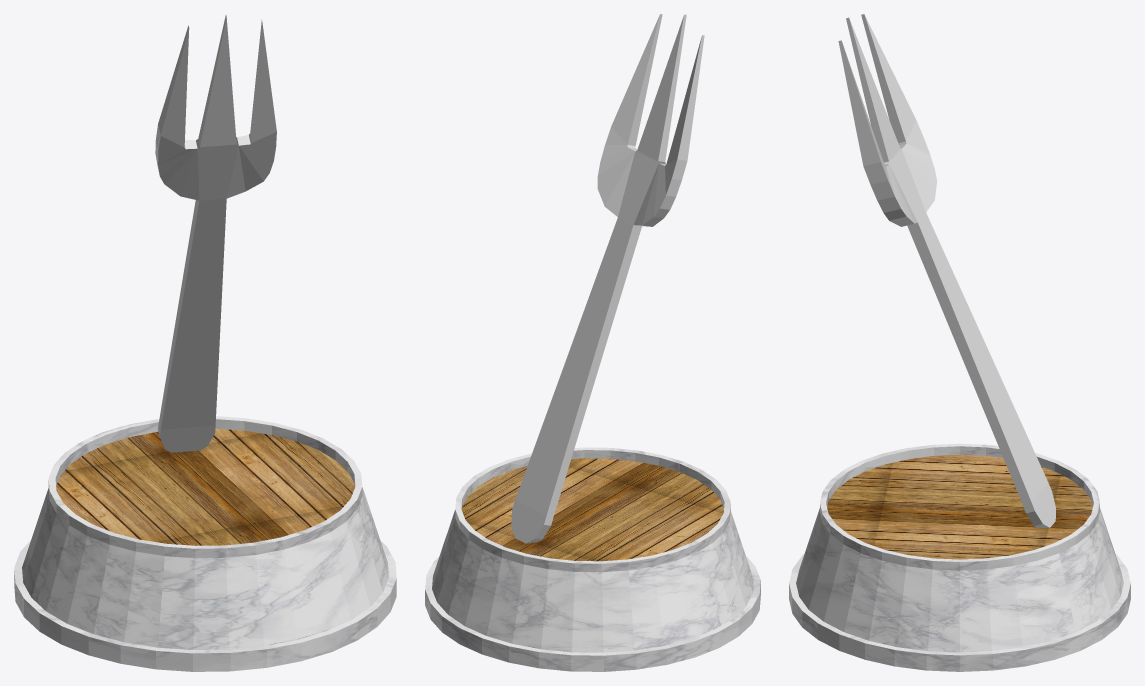
The model's file is cannibal.glb.
3 renders of one model, left to right at view 1: azimuth 30°, elevation 25°; view 2: azimuth 150°, elevation 25°; view 3: azimuth 270°, elevation 25°, orthographic. The views are drawn at different scales.
Visible parts, largest first — view 1: taij, a; view 2: taij, a; view 3: taij, a.
Part boxes in pixels (<box>): taij: <box>14,416,396,671</box>; a: <box>155,15,276,452</box>; taij: <box>425,447,760,671</box>; a: <box>511,14,704,543</box>; taij: <box>789,443,1130,671</box>; a: <box>838,14,1055,528</box>.
Bounding box in the file's own units: 1 × 1.82 × 1.
3 materials, 2 textured.
